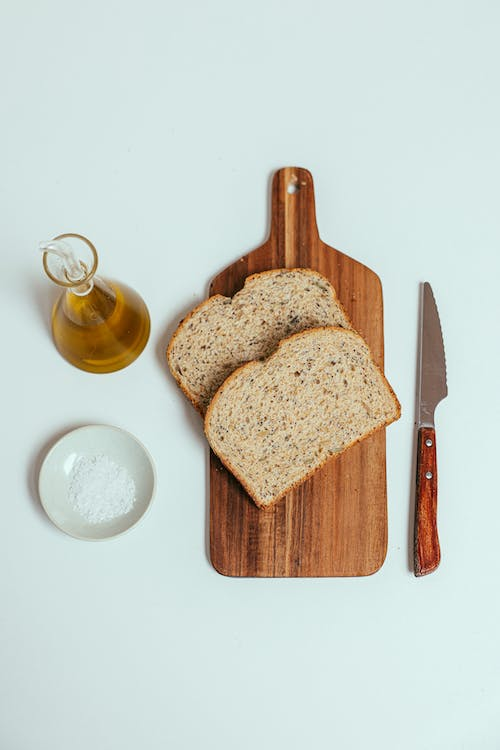knife: (409, 278, 450, 579)
